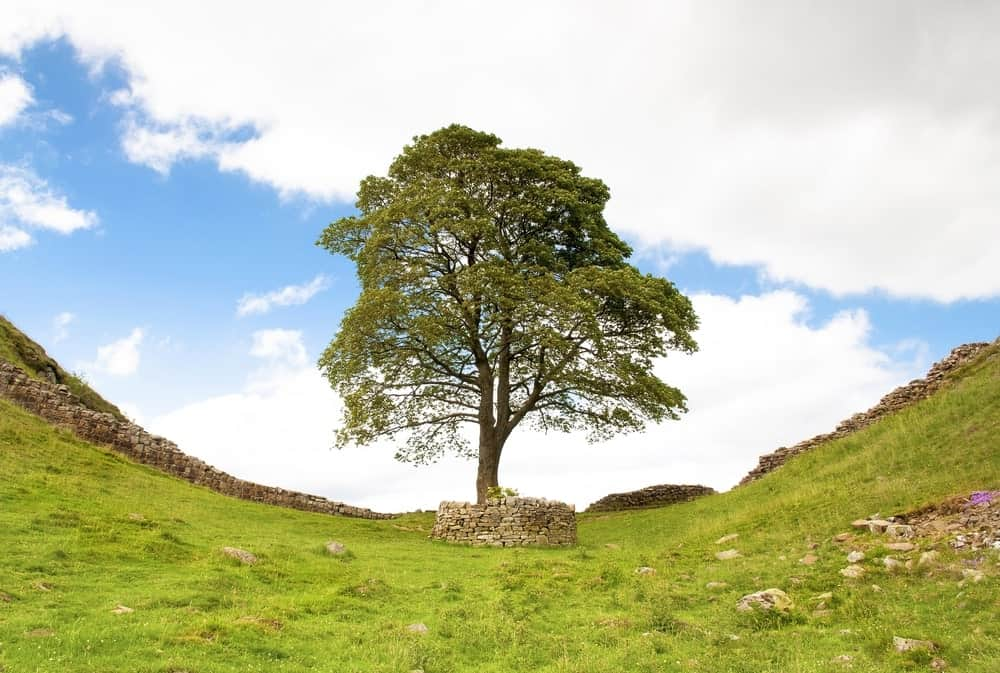tree: (311, 119, 702, 505)
